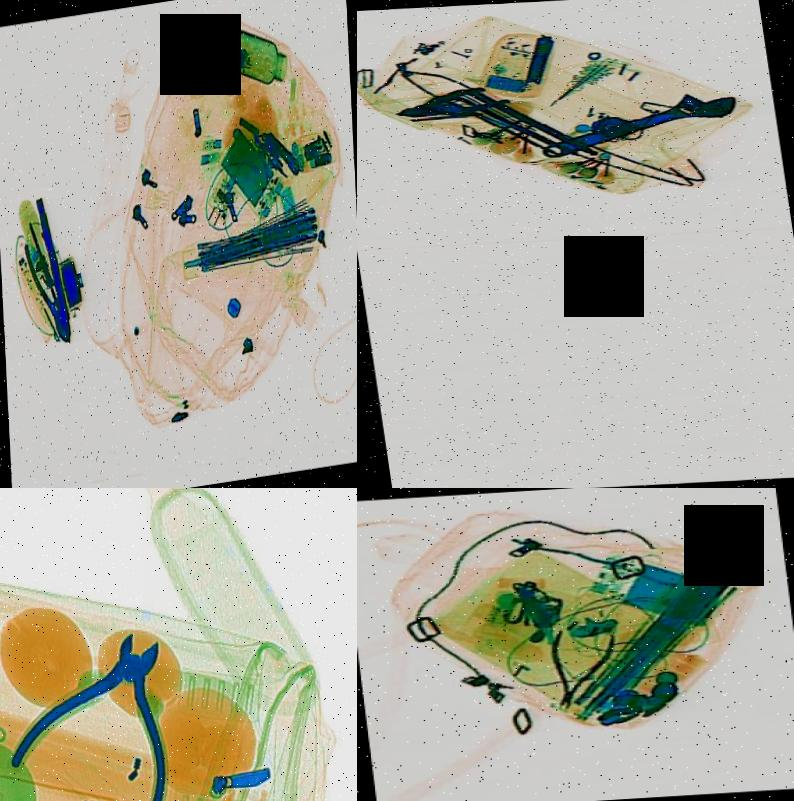Pliers: (0, 606, 240, 801), (521, 623, 623, 715), (20, 224, 82, 351), (388, 77, 512, 130)
Wrench: (529, 78, 747, 169)
